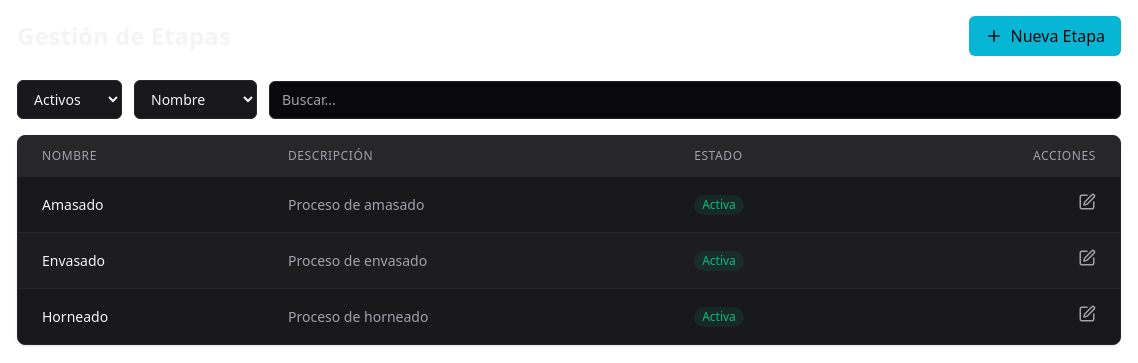
Test: EtapasPage › switching status dropdown to "Inactivos" shows only inactivos
The image size is (1138, 363).
Expected: the text "Amasado" is shown, [18,176,264,232]
Select "Inactivos" in the 1st dropdown: coordinates (70, 100) [17,80,122,119]
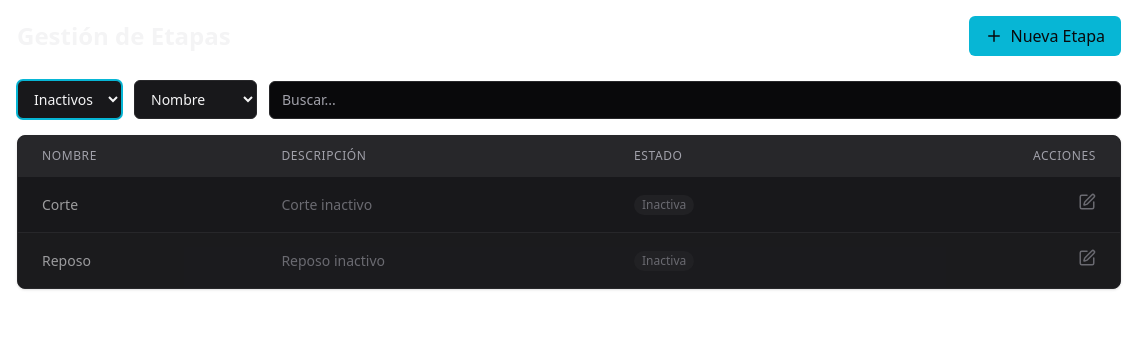
Expected: the text "Reposo" is shown, [18,232,257,288]
Expected: the text "Corte" is shown, [18,176,257,232]
Expected: the text "Amasado" is gone
